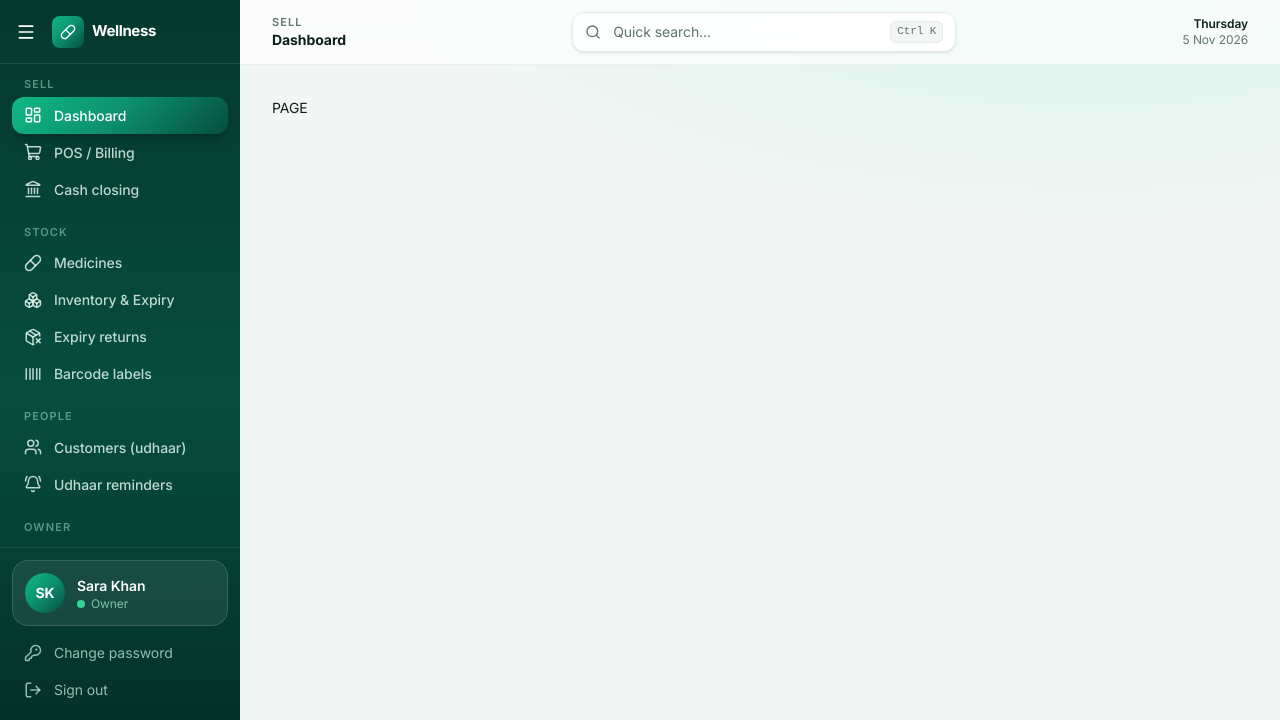
sidebar › the 3-bar button folds the menu to an icon strip; the strip's 3-bar button opens the full menu over the page; the choice is remembered
The image size is (1280, 720).
Expected: the text "PAGE" is shown, top-left (272, 99), bottom-right (308, 116)
Click the button named "Fold menu" at {"x": 26, "y": 32}, box top-left (8, 14), bottom-right (44, 50)
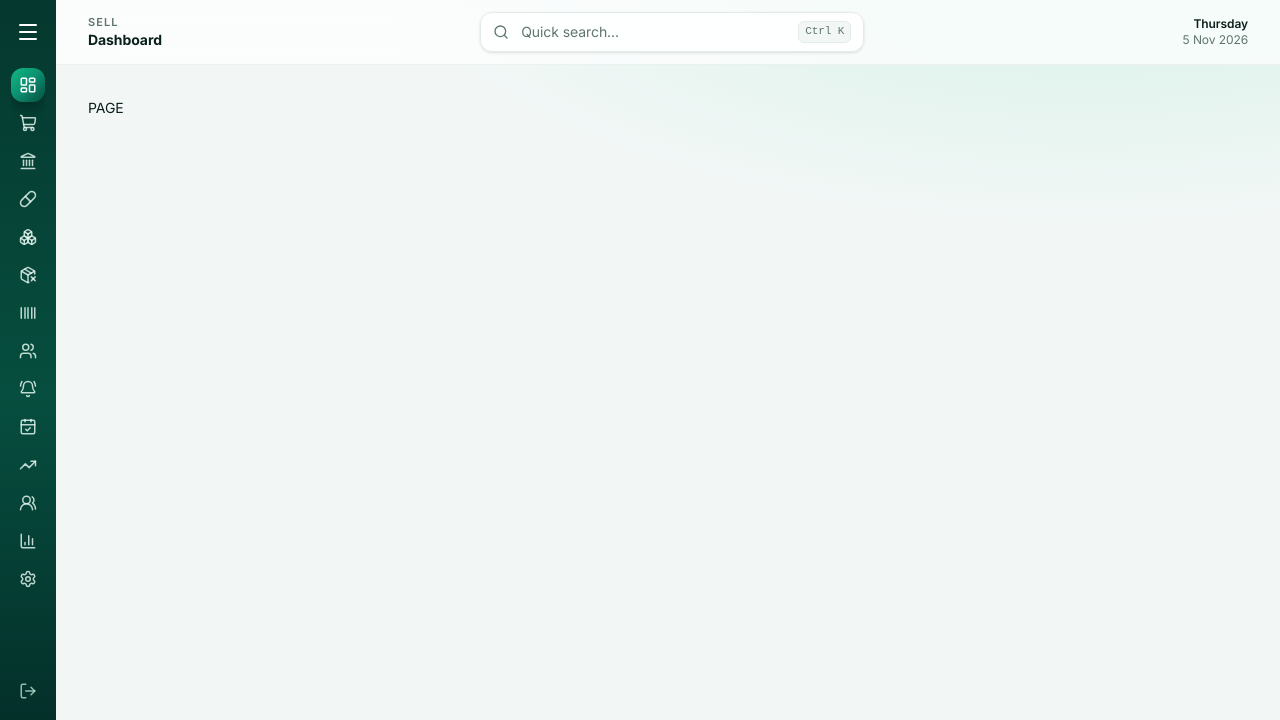
Expected: the text "Finance & profit" is not shown
Result: the link named "Finance & profit" is shown at top-left (19, 456), bottom-right (37, 474)
Click the button named "Open menu" at {"x": 28, "y": 32}, box top-left (8, 12), bottom-right (48, 52)
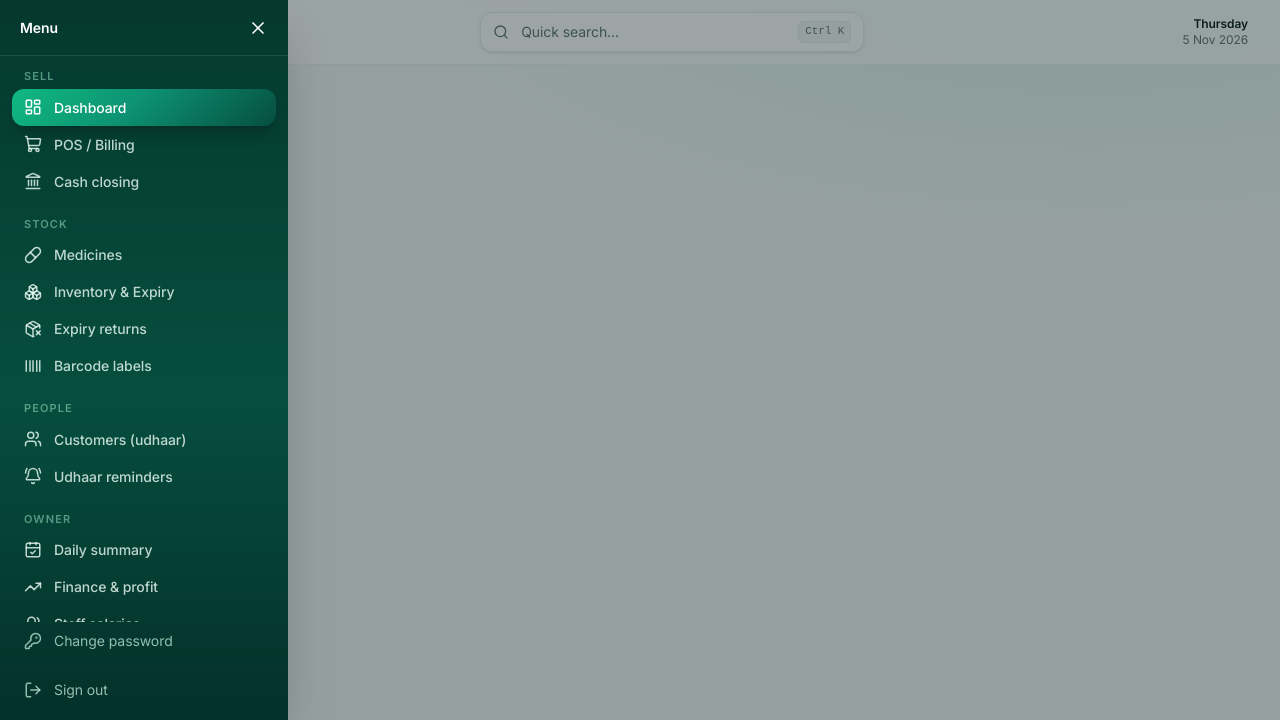
Expected: the text "PAGE" is shown, top-left (88, 99), bottom-right (124, 116)
Result: the link "Finance & profit" is shown at top-left (24, 578), bottom-right (158, 596)
